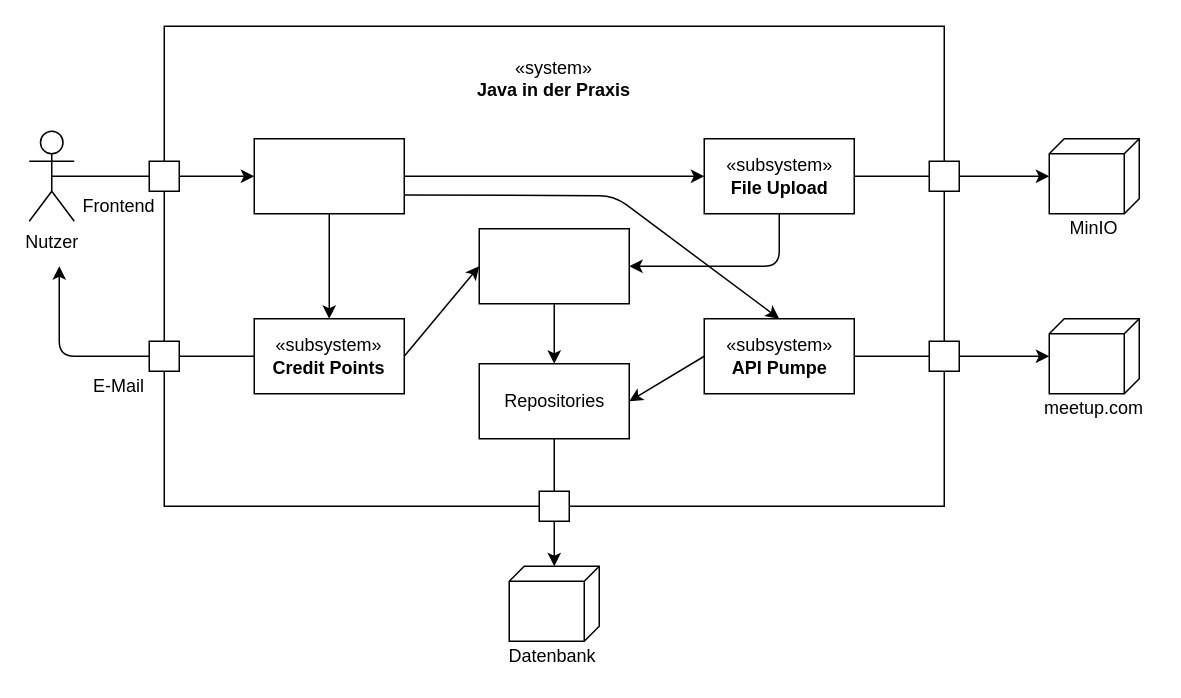
The diagram is 1181 pixels wide and 698 high, and some of its shapes have lost their labels. The centre of each missing label's shape, as x and y in pixels:
Controller: (328,175)
ModelService: (553,265)
